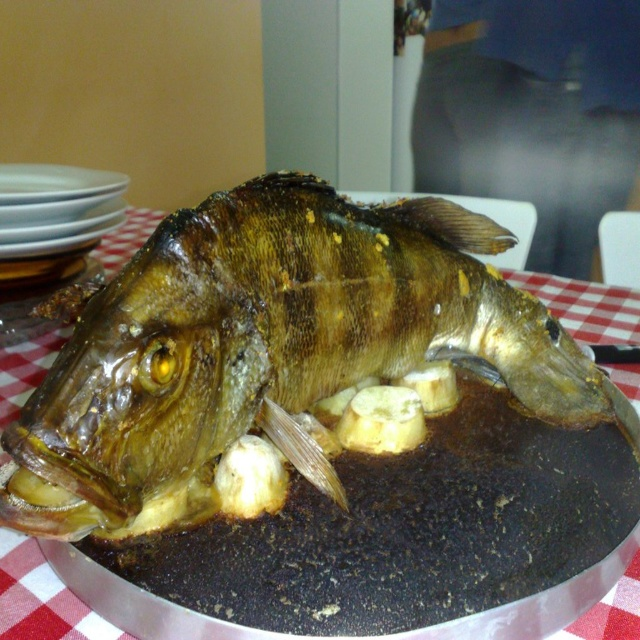Fish: (16, 168, 597, 550)
